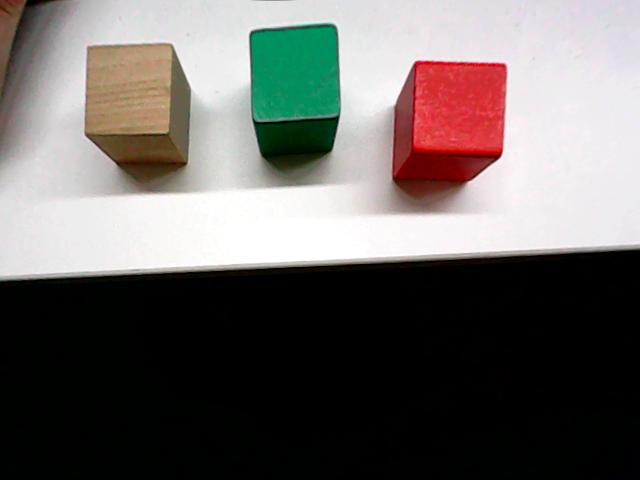green_box: (245, 20, 344, 160)
raw_box: (81, 38, 194, 176)
red_box: (388, 55, 510, 187)
